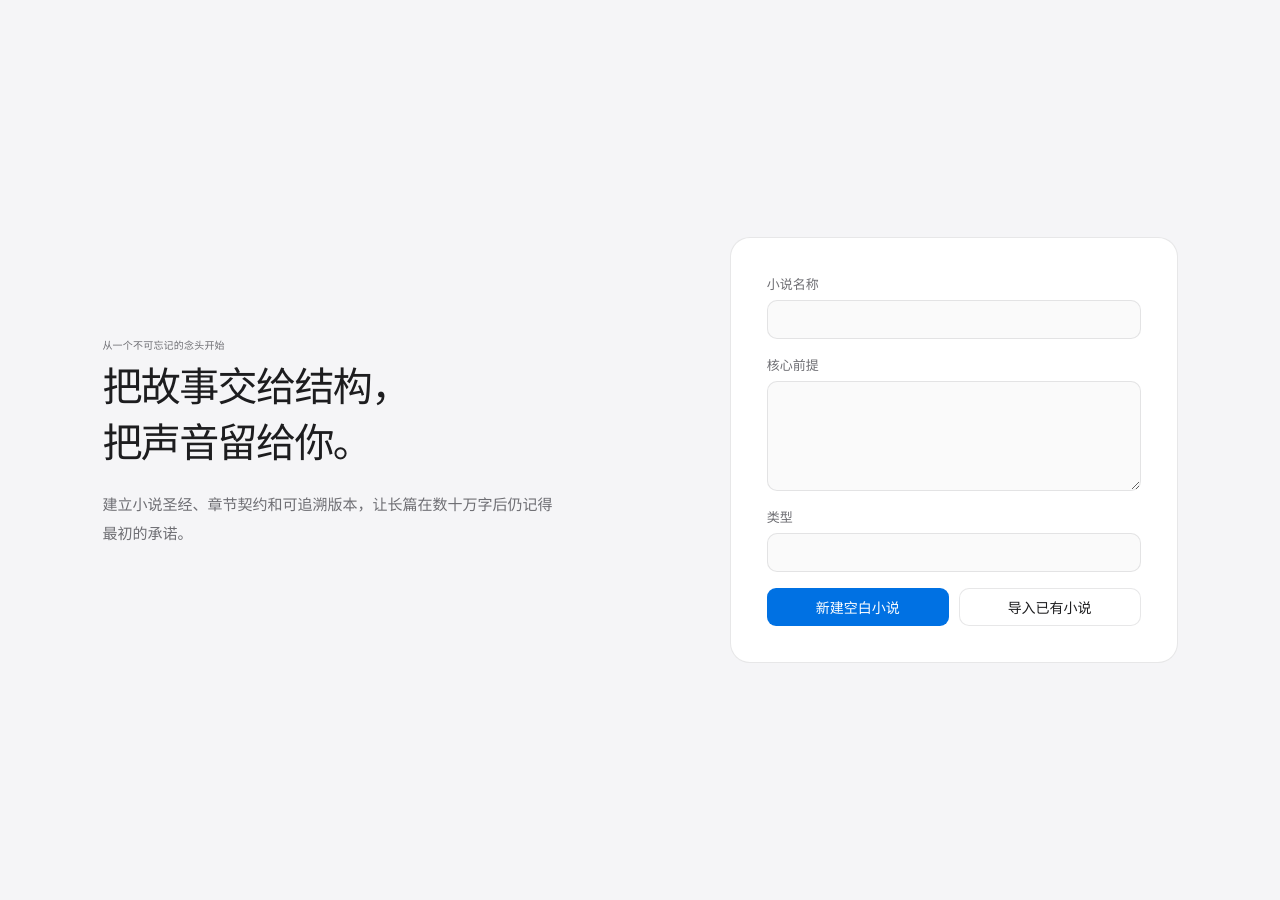
Test: opens the import wizard from the empty application launcher
Click the button "导入已有小说" at [1050, 607], box [959, 588, 1141, 626]
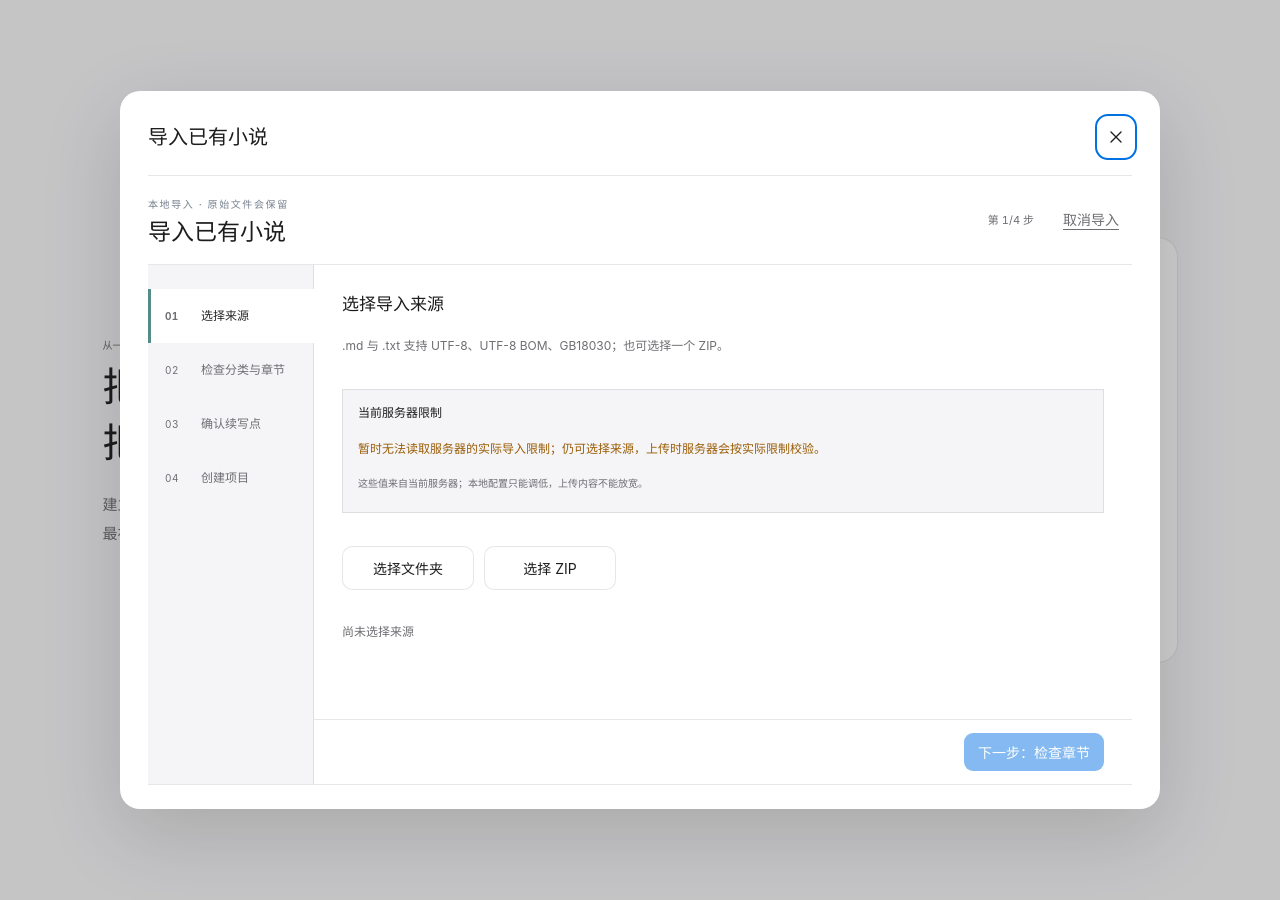
Expected: the dialog "导入已有小说" is shown
